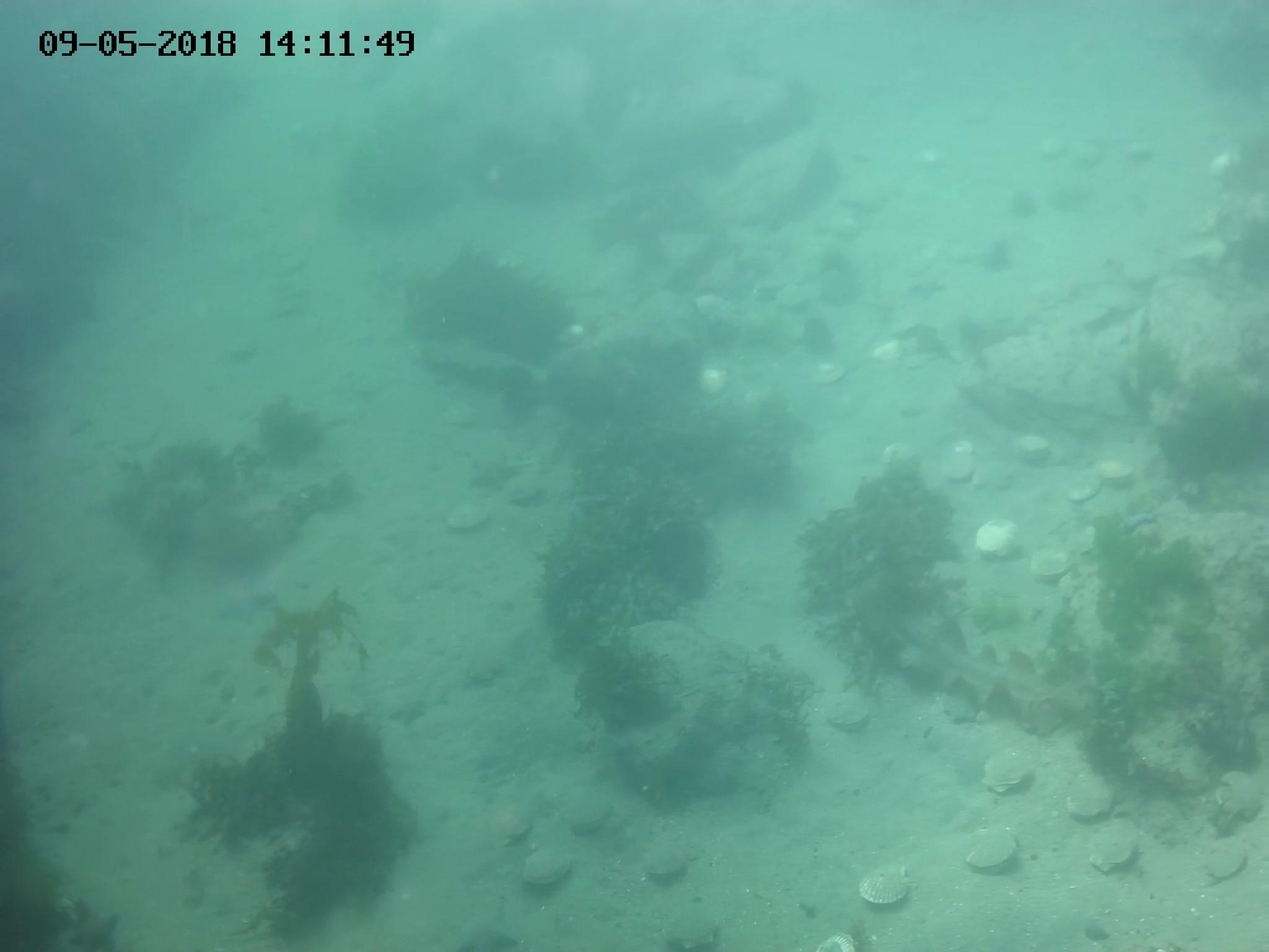holothurian: (449, 894, 528, 952), (209, 581, 279, 628), (66, 902, 125, 952), (390, 696, 428, 729)
scallop: (983, 743, 1032, 796), (658, 910, 721, 950), (1217, 767, 1262, 822), (936, 436, 985, 486), (1066, 772, 1117, 819), (859, 860, 910, 906), (964, 829, 1019, 871), (1086, 830, 1141, 871), (522, 847, 575, 889), (972, 515, 1021, 560), (644, 849, 695, 885), (565, 800, 615, 836), (443, 501, 493, 533), (1029, 547, 1076, 580), (827, 700, 872, 731), (939, 692, 979, 725), (1065, 524, 1099, 559), (1096, 458, 1140, 485), (1012, 430, 1052, 459), (701, 366, 736, 398), (869, 337, 907, 366), (1065, 475, 1100, 505), (812, 358, 848, 386)
